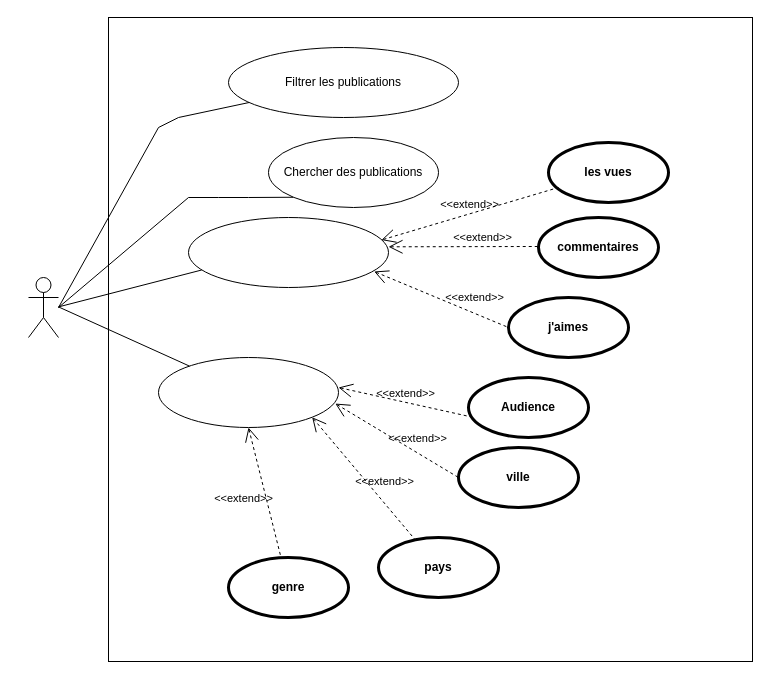
This 770x679 diagram has some shape labels left out. The shapes that lost their labels are listed below. From the top down, each one's centre as x and y in pixels, then its label:
At (288,252): "Consulter les publications".
At (43,307): "Utilisateur".
At (248,392): "Consulter les statistiques du compte".
